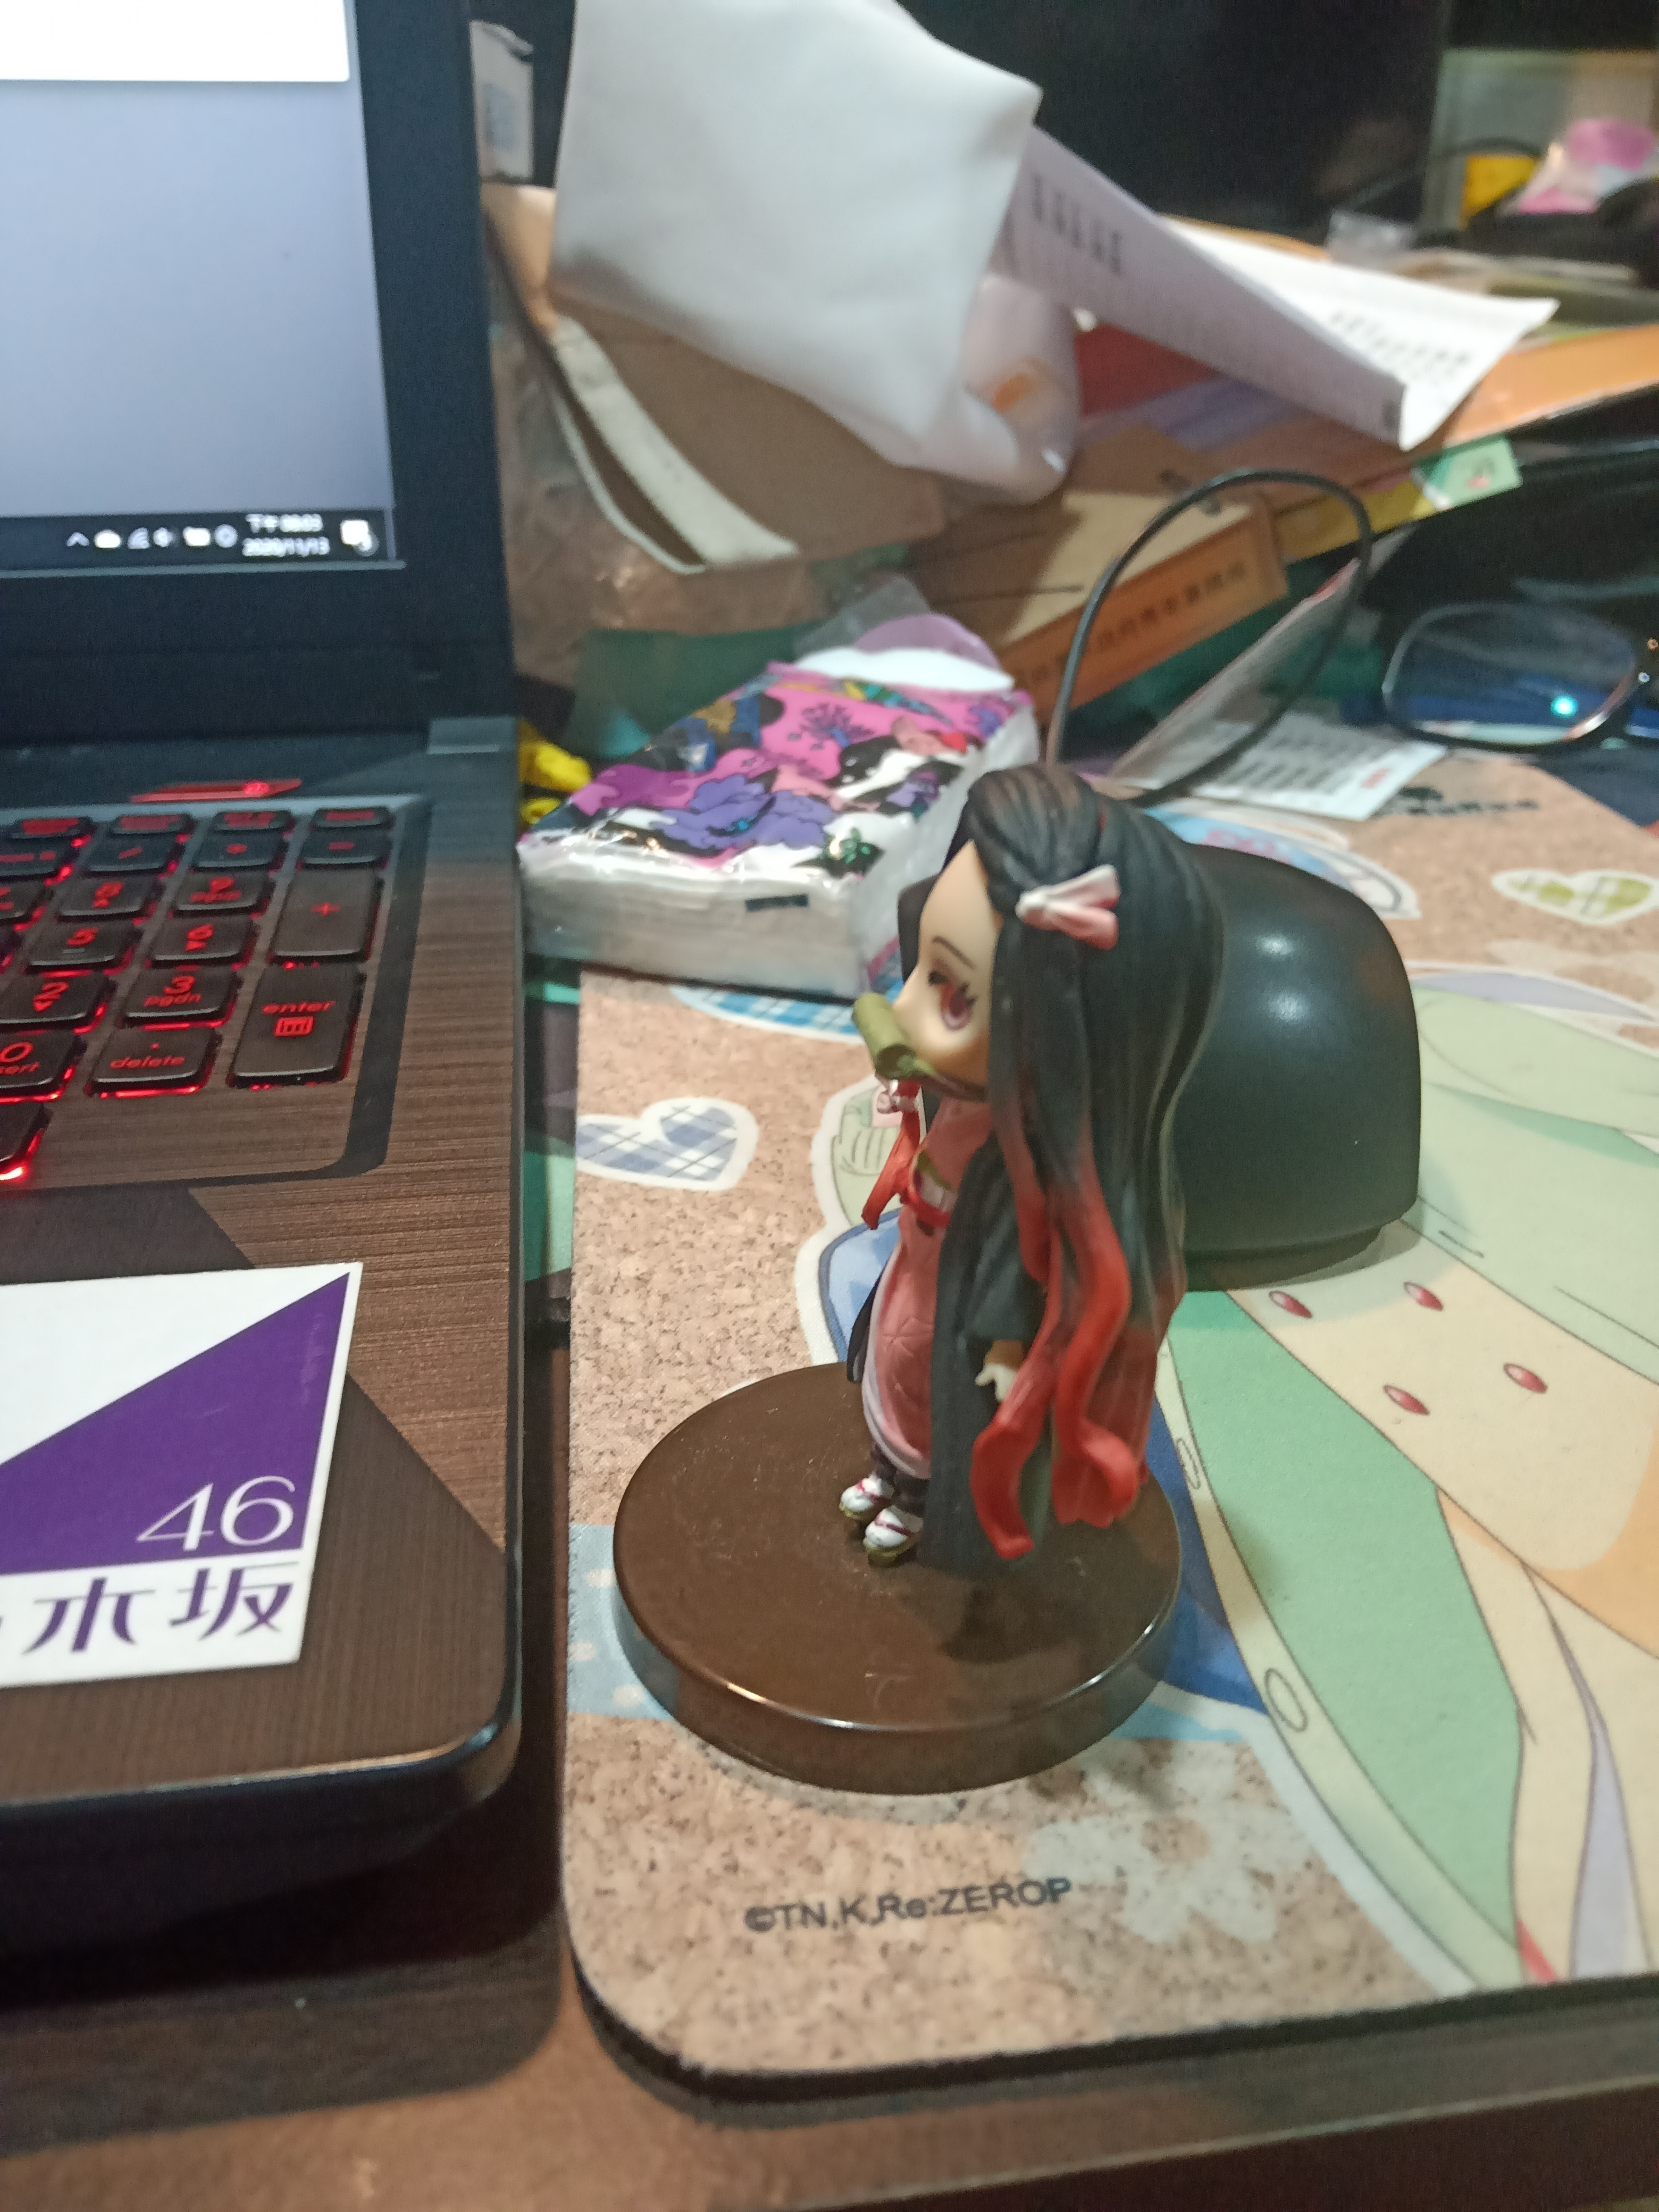Nezuko: (591, 747, 1239, 1817)
